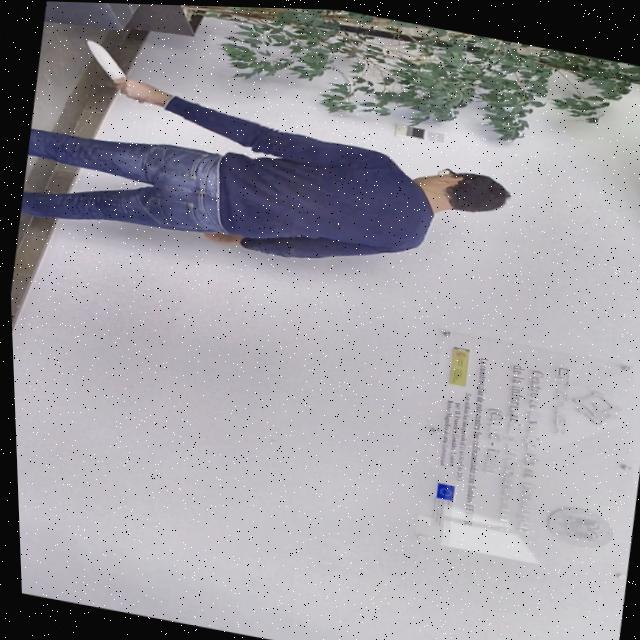knife: (65, 34, 137, 89)
